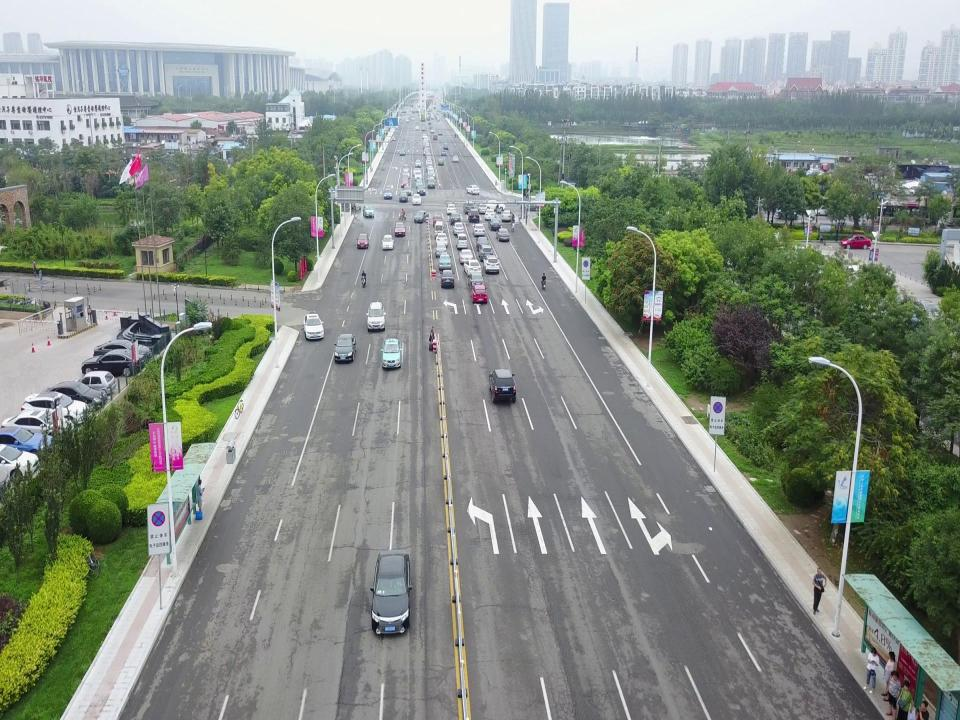bus: (873, 194, 931, 226)
car: (369, 548, 413, 636), (1, 409, 75, 446), (20, 390, 90, 427), (43, 380, 107, 413), (81, 348, 146, 378), (0, 426, 54, 462), (93, 339, 153, 369), (0, 443, 40, 486), (71, 371, 117, 398), (488, 368, 516, 402), (380, 338, 402, 369), (334, 333, 356, 363), (366, 301, 386, 332), (302, 313, 324, 339), (839, 233, 871, 250), (470, 283, 488, 304), (482, 255, 500, 274), (463, 259, 481, 277), (477, 243, 493, 262), (440, 269, 455, 289), (520, 199, 543, 212), (467, 272, 484, 289), (775, 207, 799, 219), (484, 199, 506, 212), (814, 203, 836, 216), (458, 248, 474, 265), (356, 233, 370, 250), (438, 252, 451, 269), (433, 243, 447, 258), (475, 236, 489, 251), (472, 222, 486, 237), (381, 234, 394, 250), (434, 233, 448, 247), (487, 217, 501, 231), (495, 228, 510, 241), (467, 208, 480, 223), (414, 211, 430, 223), (501, 209, 515, 222), (394, 222, 406, 237), (362, 203, 374, 218), (452, 221, 464, 235), (463, 200, 474, 215), (449, 212, 461, 225), (484, 208, 496, 221), (466, 184, 480, 195), (477, 202, 488, 214), (446, 202, 456, 215), (398, 190, 408, 203), (416, 184, 426, 196), (426, 178, 436, 189), (412, 193, 421, 205), (384, 188, 392, 200), (403, 185, 412, 195), (414, 159, 422, 167), (399, 148, 406, 157), (437, 157, 444, 166), (452, 155, 459, 162), (441, 148, 447, 156), (390, 135, 396, 142), (414, 124, 420, 131), (443, 143, 449, 150), (406, 117, 410, 124), (411, 115, 415, 122), (421, 125, 425, 131)
van: (454, 233, 468, 250), (347, 195, 361, 210), (434, 222, 444, 239), (432, 215, 443, 228)
